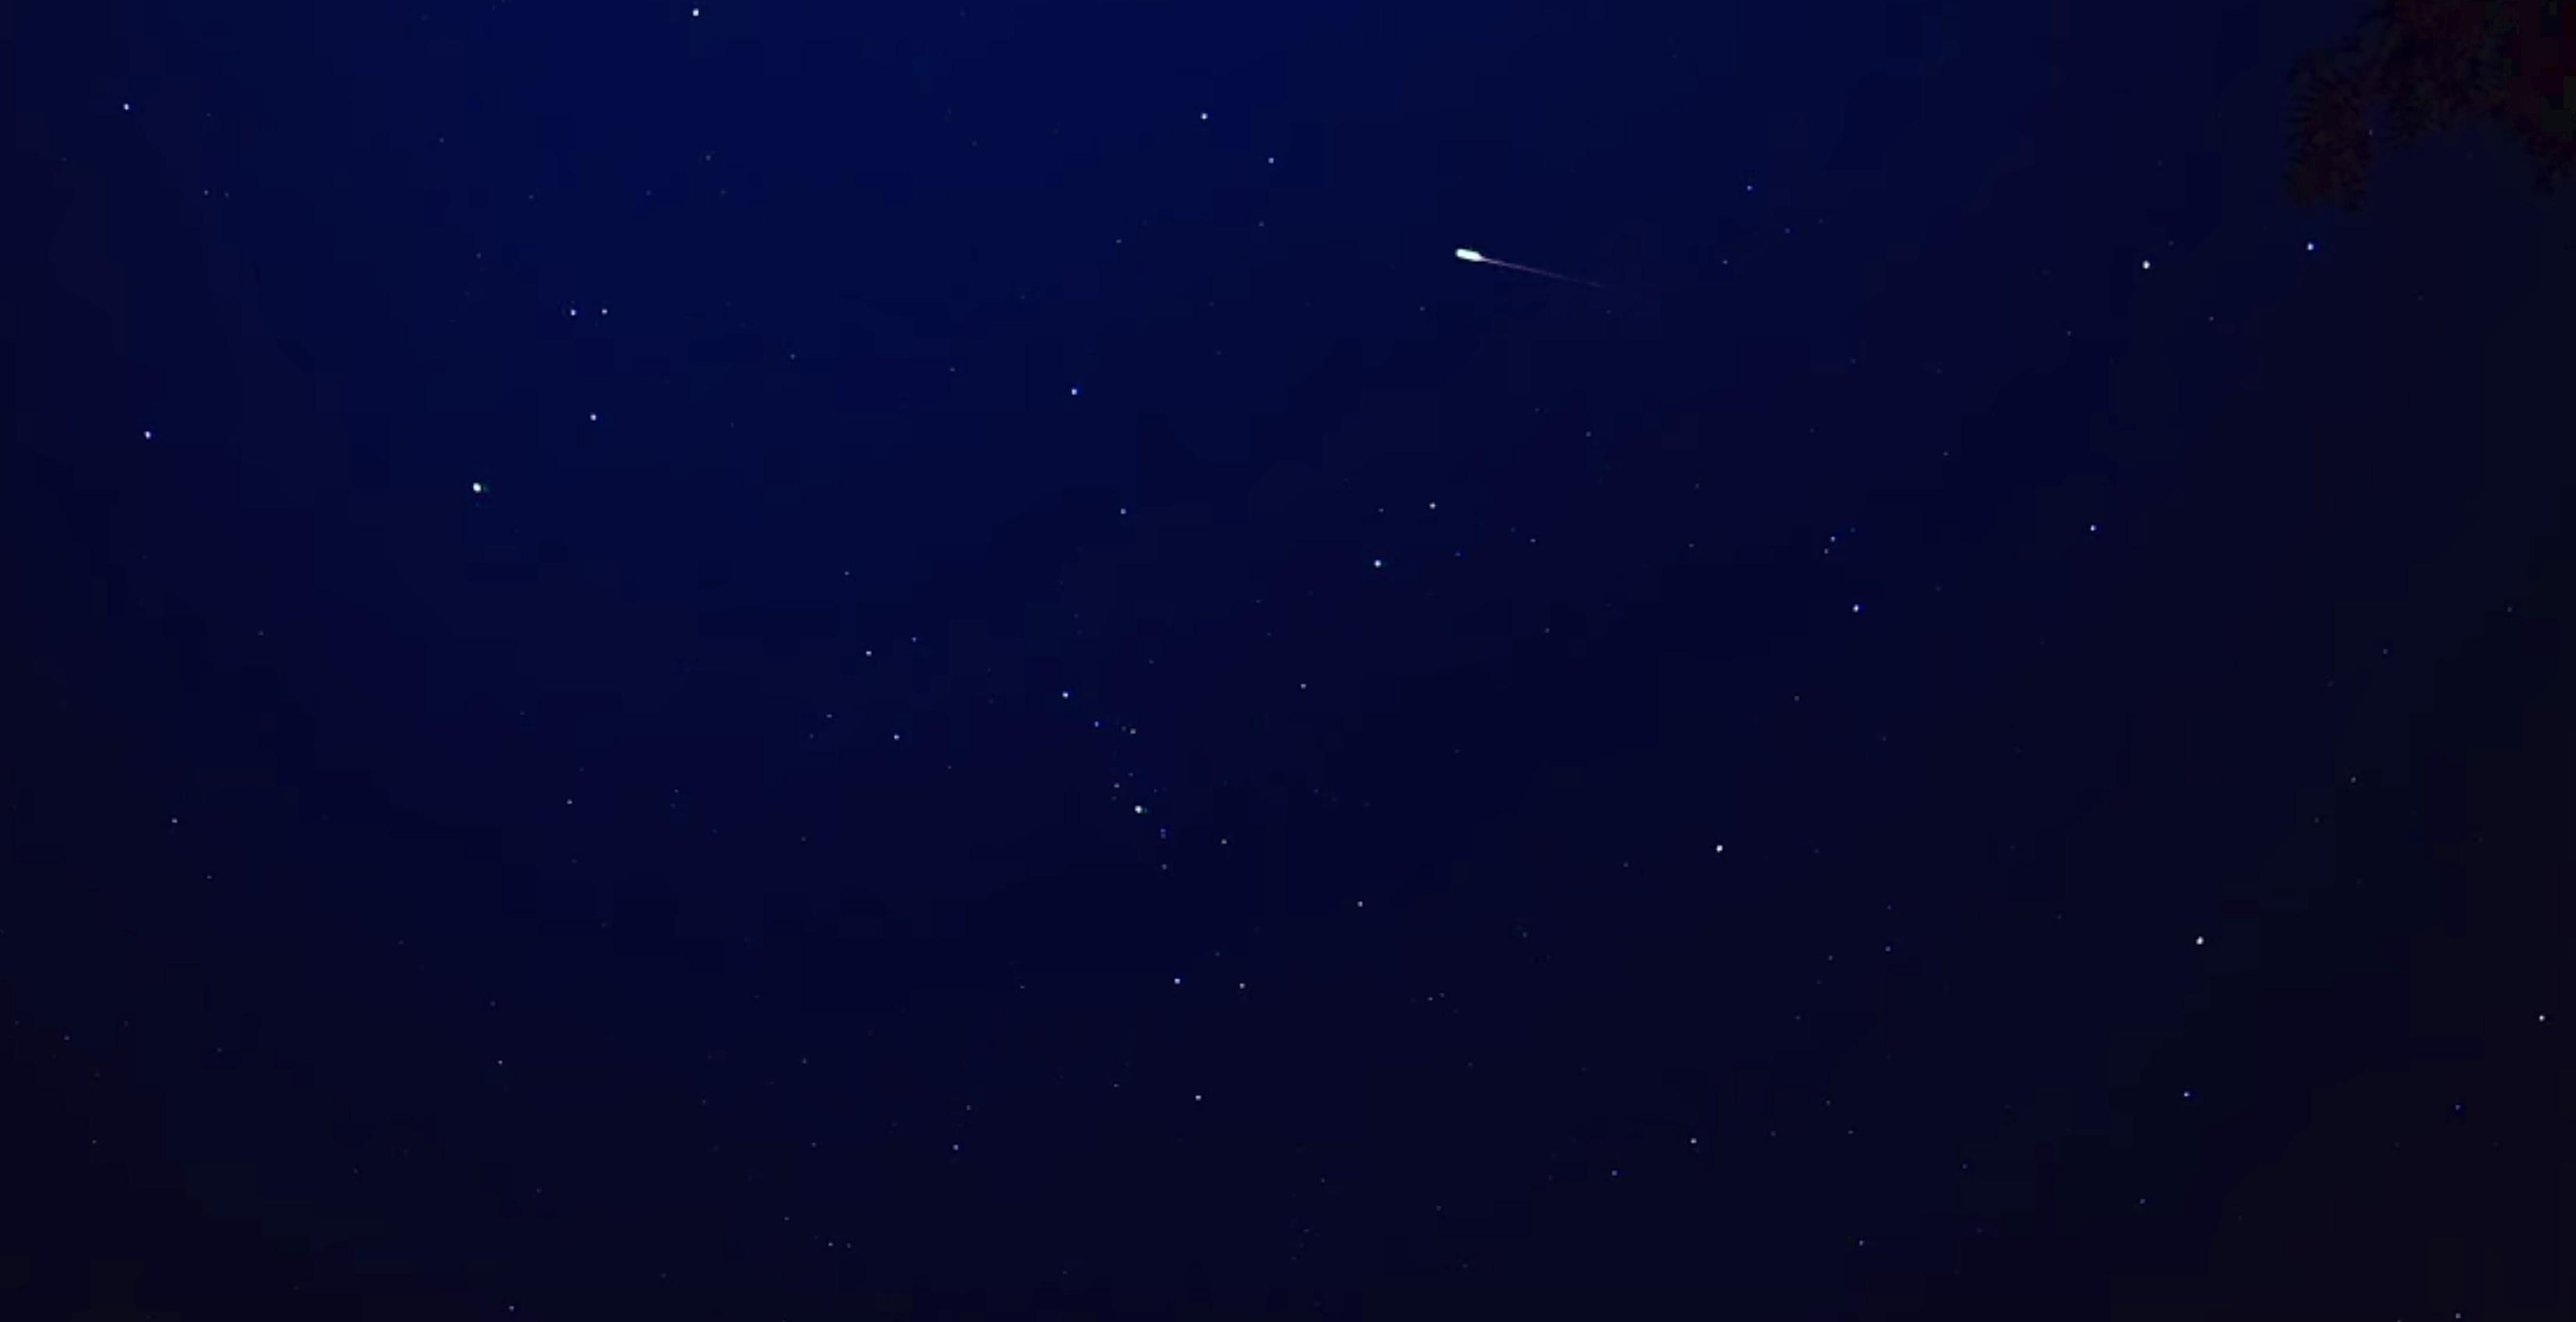meteorite: (1388, 234, 1671, 298)
